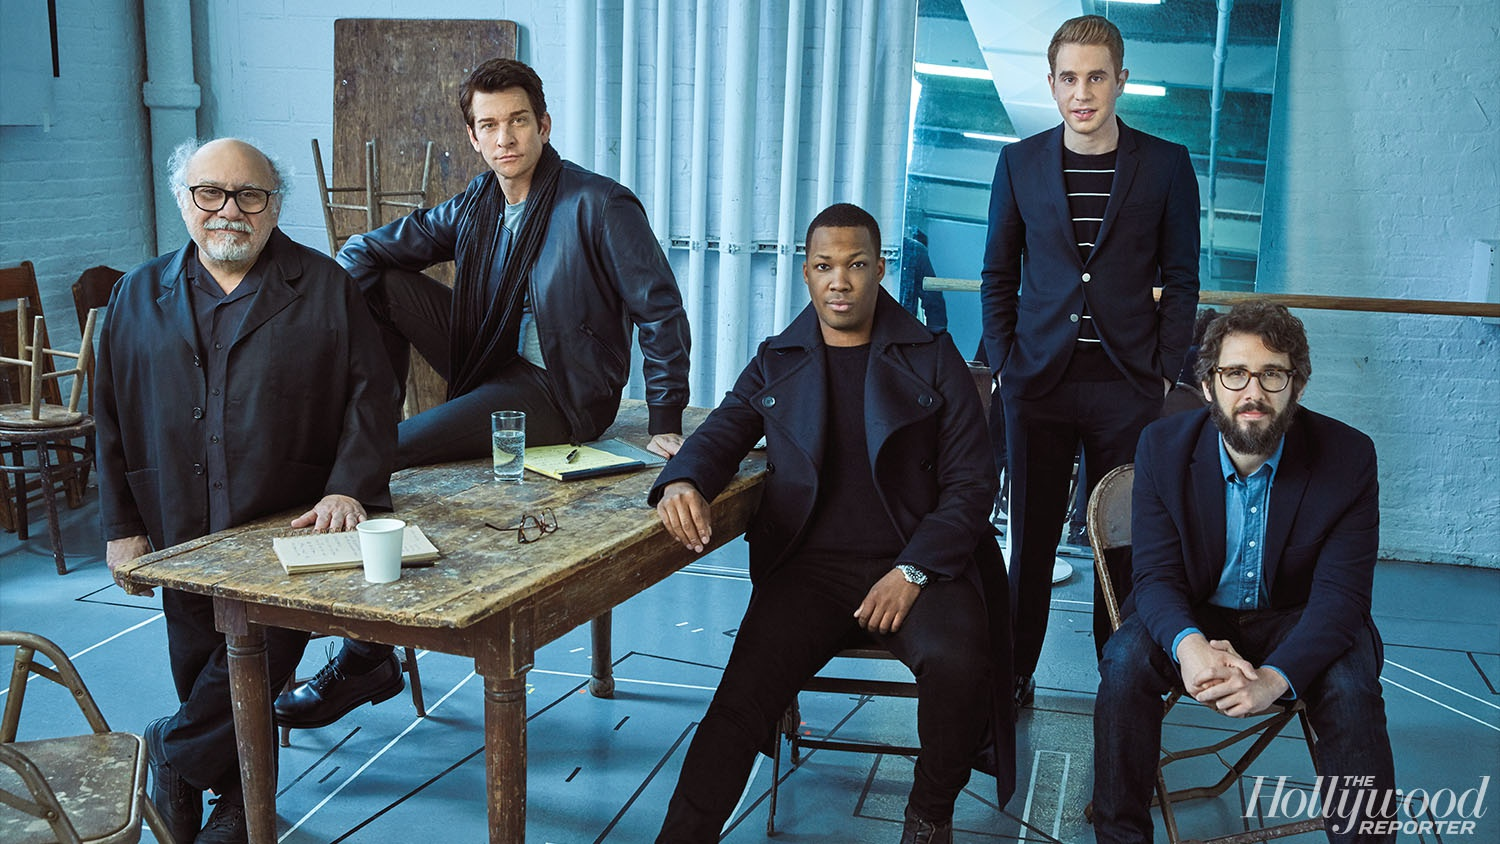bad: (175, 163, 282, 271), (1211, 355, 1300, 445), (469, 105, 544, 179), (1042, 55, 1116, 130), (802, 246, 876, 320)
